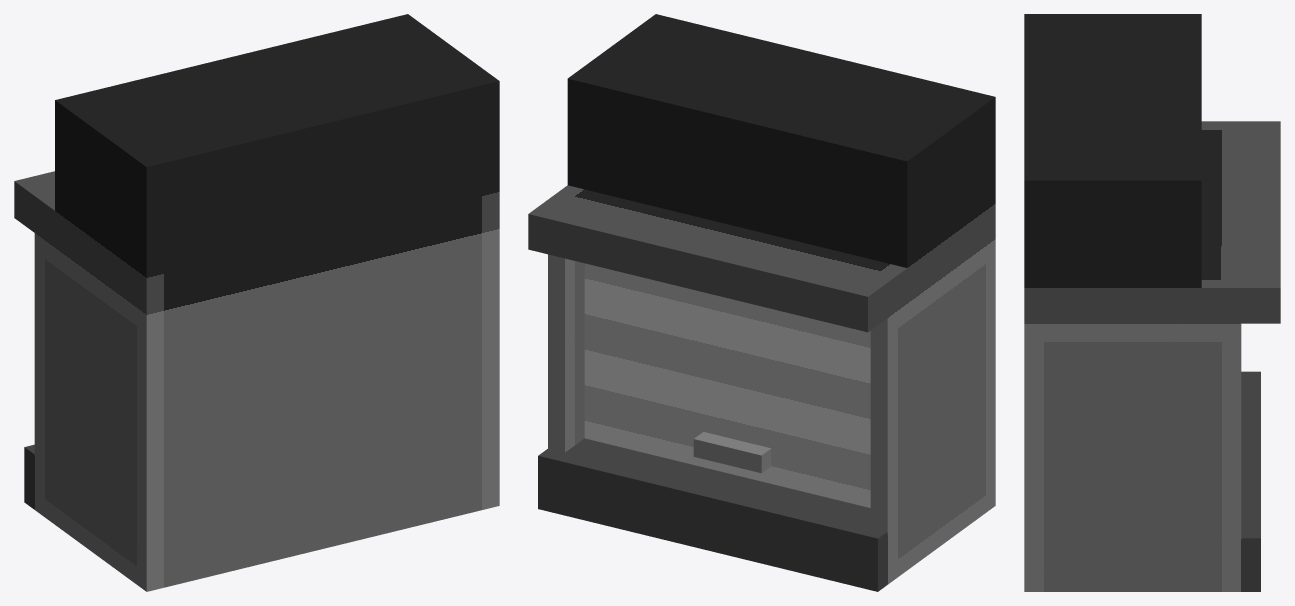
The model's file is obj_store5.dae.
The picture shows the model from 3 angles, left to right: view 1: azimuth 30°, elevation 25°; view 2: azimuth 150°, elevation 25°; view 3: azimuth 270°, elevation 25°; orthographic projection. The views are drawn at different scales.
Parts seen in each view (by area): view 1: obj_store5; view 2: obj_store5; view 3: obj_store5.
Boxes of the visible parts, <box> form: obj_store5: <box>14,14,499,591</box>; obj_store5: <box>528,14,995,591</box>; obj_store5: <box>1024,14,1280,591</box>.
Bounding box in the file's own units: 2 × 1.3 × 2.3.
Materials: 1 (1 with a texture image).
